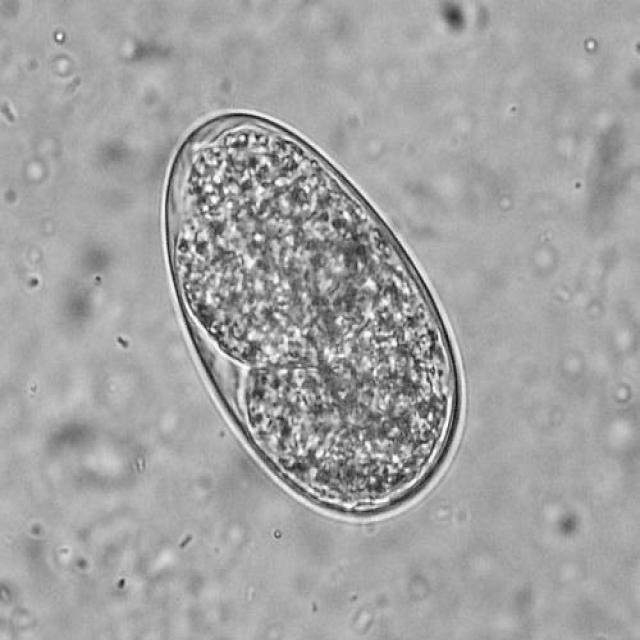Ancylostoma Spp: (156, 102, 472, 536)
